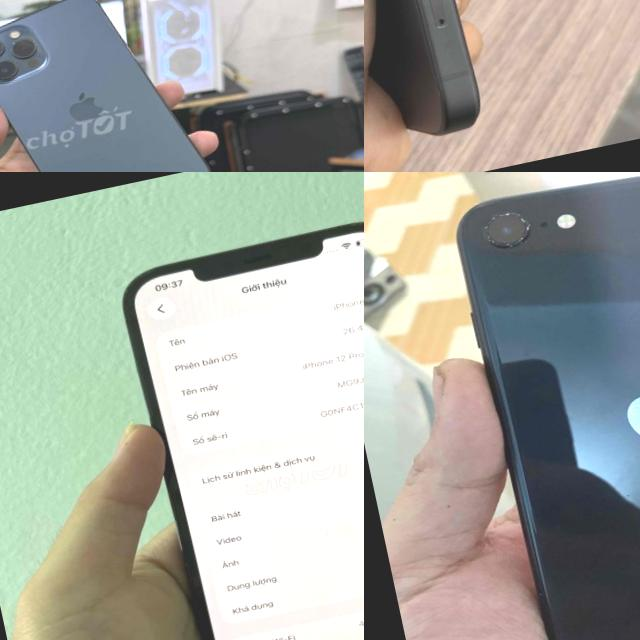gen_12_13: (105, 204, 364, 640), (0, 0, 221, 172)
gen_15: (364, 0, 524, 158)
gen_7_8: (441, 172, 640, 640)
